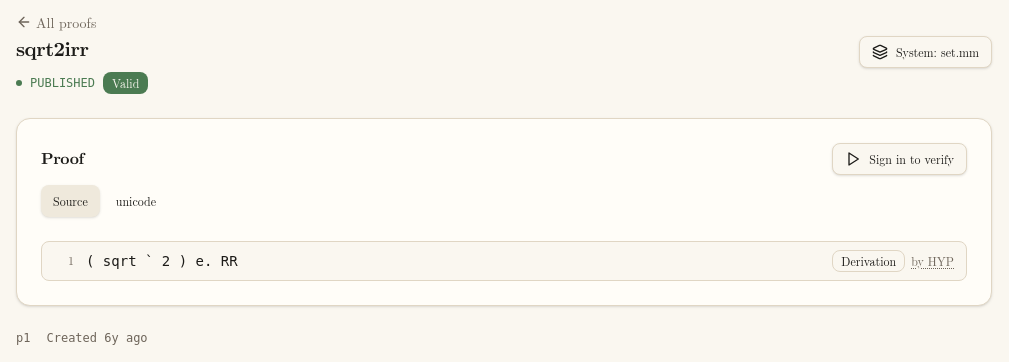
Test: the proof detail page › re-reads the checked lines through a chosen notation
Expected: the text "( sqrt ` 2 ) e. RR" is shown, [86,253,238,269]
Click the button "unicode": (136, 201) [104,185,168,217]
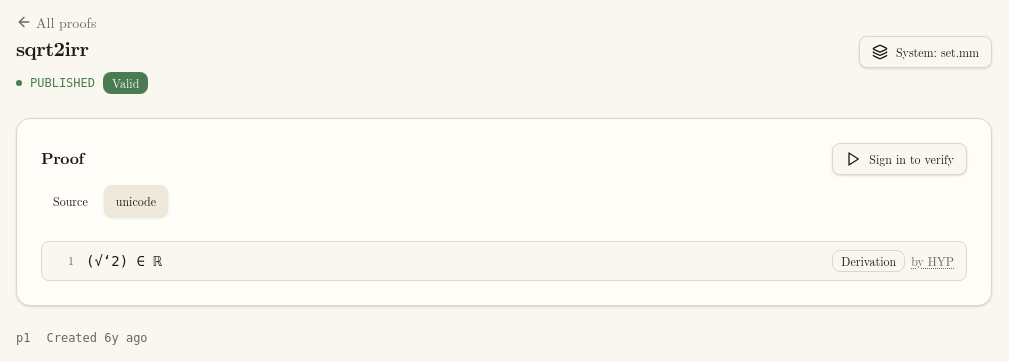
Expected: the button "by HYP" is shown, [911,253,954,269]
Expected: the text "(√‘2) ∈ ℝ" is shown, [86,253,162,269]
